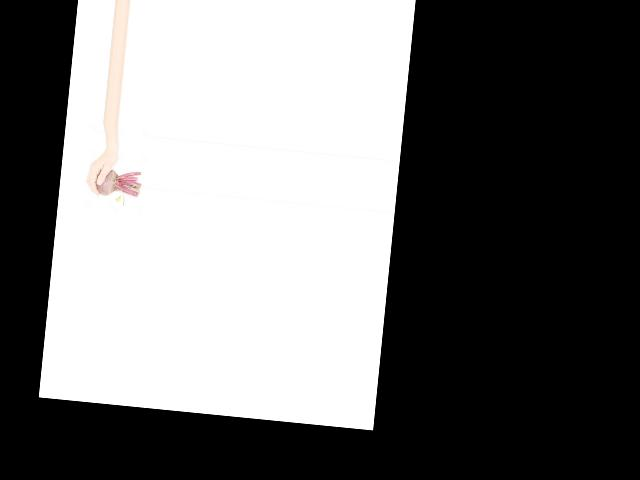beet: (93, 168, 142, 207)
